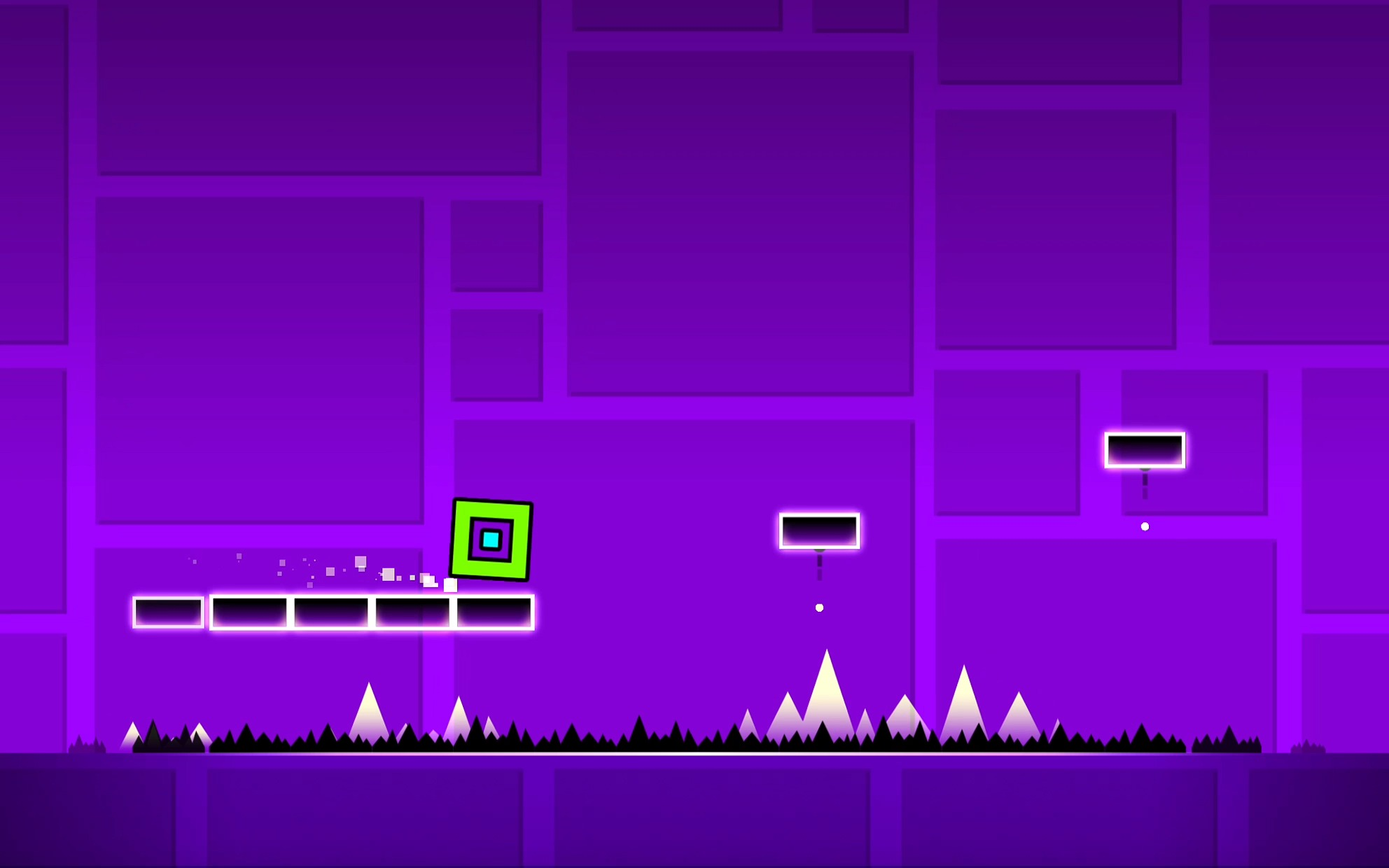Block3: (128, 597, 291, 632), (1104, 431, 1190, 469), (775, 514, 860, 550), (210, 597, 290, 632), (453, 598, 535, 632), (291, 597, 371, 631), (131, 598, 208, 630), (377, 596, 448, 629)
Player: (452, 497, 534, 578)
Spike2: (39, 710, 1338, 766)
